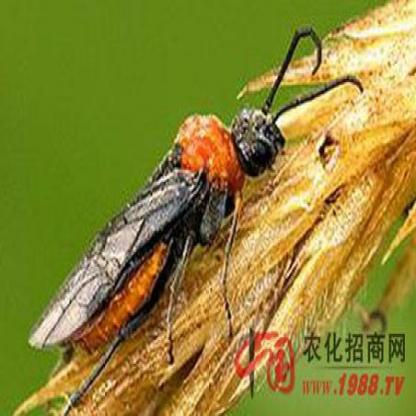sawfly: (29, 19, 366, 416)
